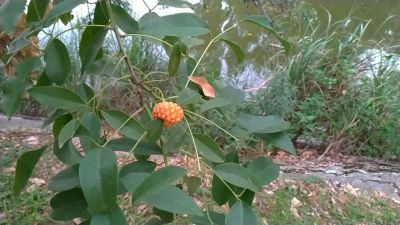eggs: (154, 98, 183, 124)
